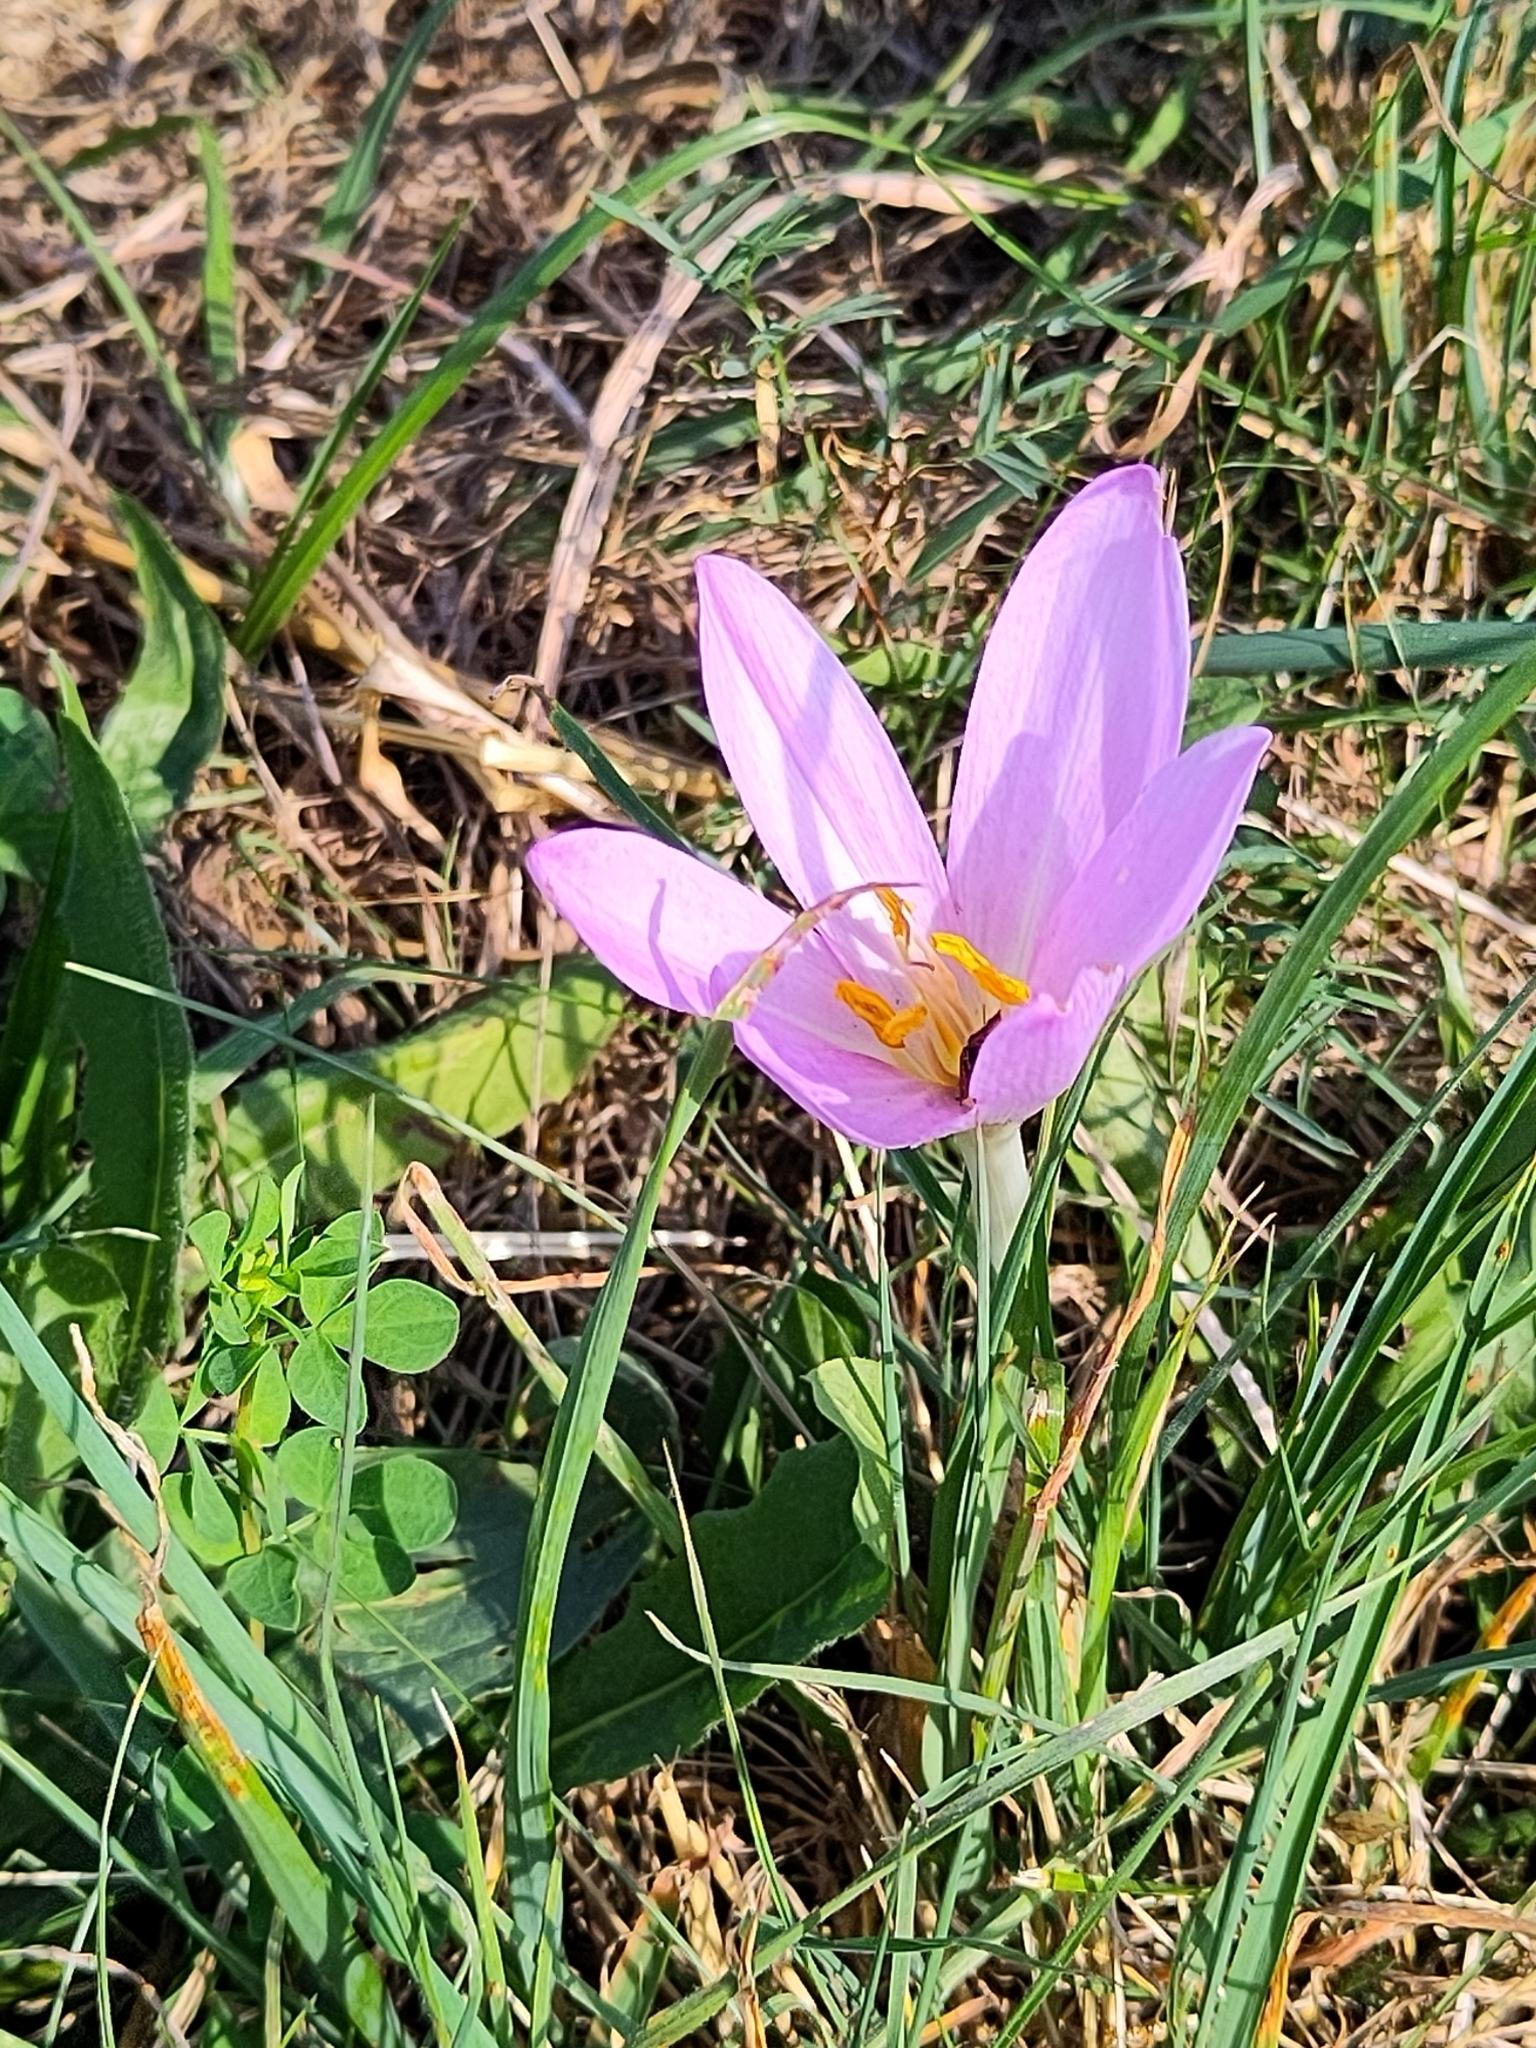Colchicum autumnale L: (457, 477, 1418, 1882)
